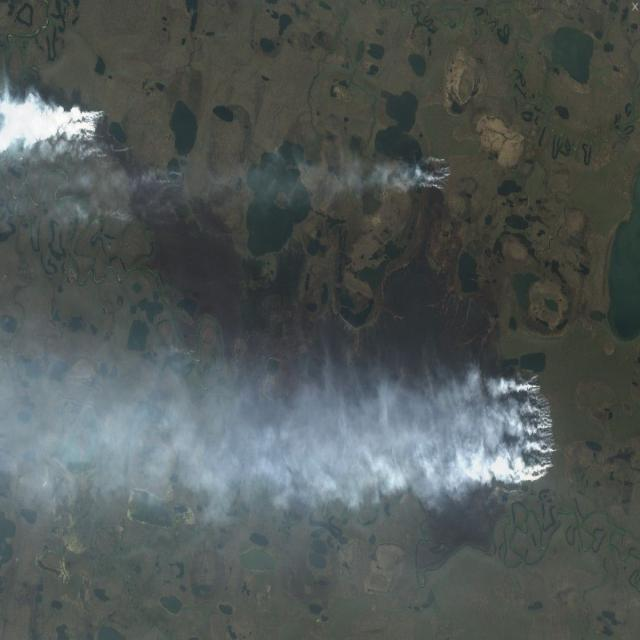fire: (513, 364, 565, 484), (77, 99, 120, 153), (406, 152, 456, 192)
